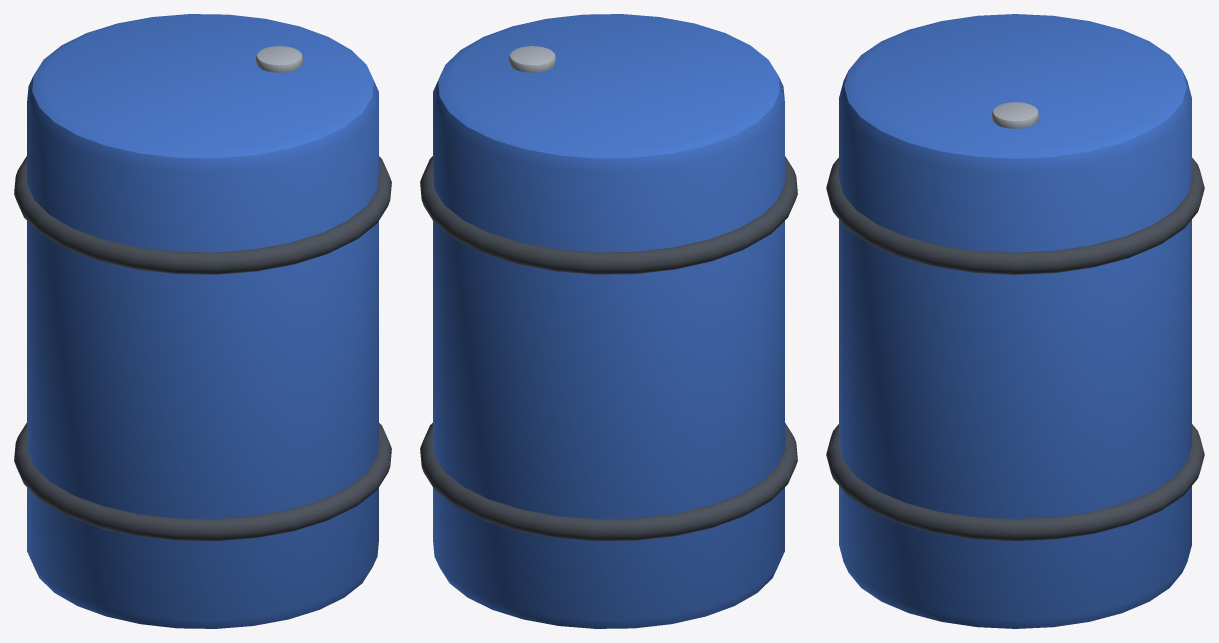
Rendered from OilDrum.fbx.
3 views of the same model, side by side, from view 1: azimuth 30°, elevation 25°; view 2: azimuth 150°, elevation 25°; view 3: azimuth 270°, elevation 25° (orthographic).
Visible parts, largest first — view 1: Prop_OilDrum; view 2: Prop_OilDrum; view 3: Prop_OilDrum.
Boxes of the visible parts, <box> form: Prop_OilDrum: <box>14,14,391,628</box>; Prop_OilDrum: <box>420,14,797,628</box>; Prop_OilDrum: <box>826,14,1204,628</box>.
Size of the model in its own units: 0.644 by 0.915 by 0.644.
